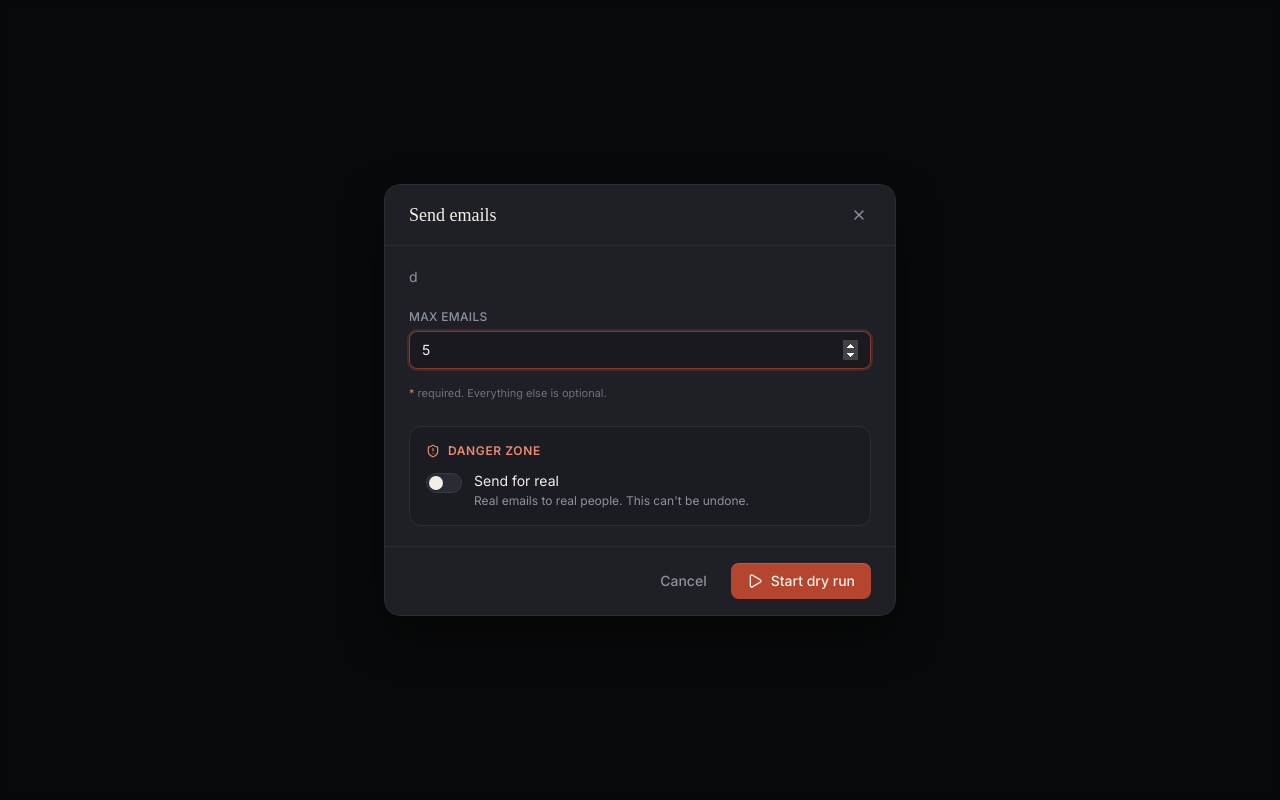
Scenario: RunDialog › requires the exact confirmation text before a live run can start
The image size is (1280, 800).
Expected: the button with test id "start-job" reads "Start dry run", x1=731 y1=563 x2=871 y2=599
Expected: the button with test id "start-job" is enabled, x1=731 y1=563 x2=871 y2=599
Click the switch named "send for real".
click(444, 483)  # box x1=426 y1=473 x2=462 y2=493
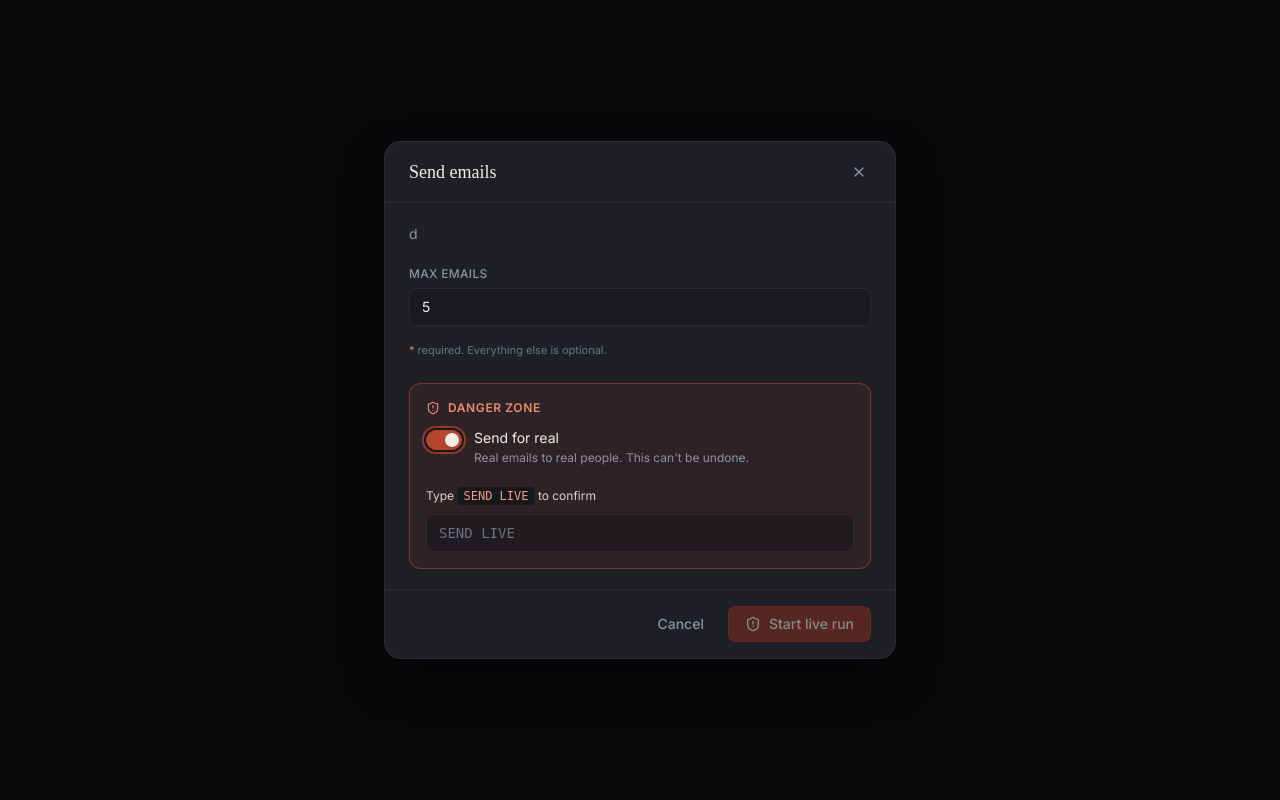
Expected: the button with test id "start-job" reads "Start live run", x1=728 y1=606 x2=871 y2=642
Expected: the button with test id "start-job" is disabled, x1=728 y1=606 x2=871 y2=642
Type "send live" into the field labelled "Type SEND LIVE to confirm".
click(640, 533); type("send live")  # box x1=426 y1=514 x2=854 y2=552
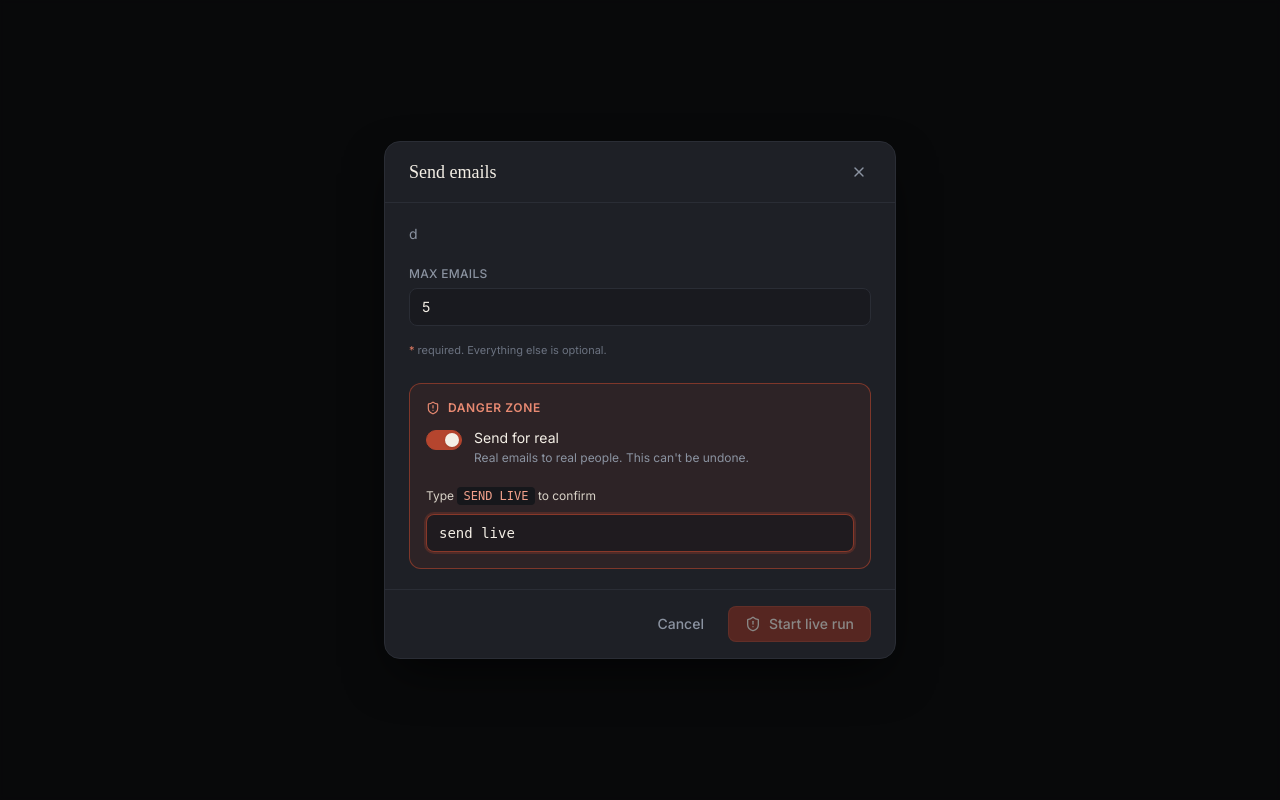
Expected: the button with test id "start-job" is disabled, x1=728 y1=606 x2=871 y2=642
Replace the text in the field labelled "Type SEND LIVE to confirm" with "SEND LIVE" at (640, 533), box x1=426 y1=514 x2=854 y2=552
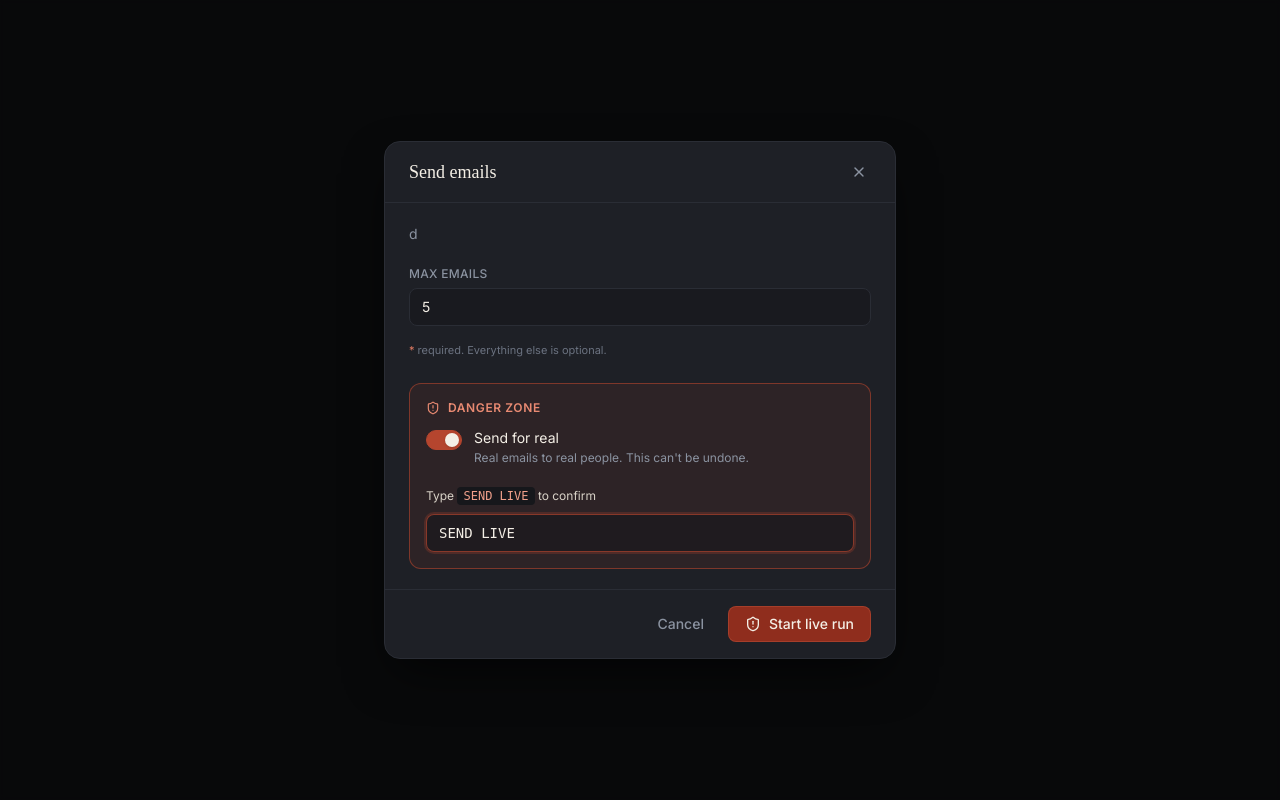
Expected: the button with test id "start-job" is enabled, x1=728 y1=606 x2=871 y2=642
